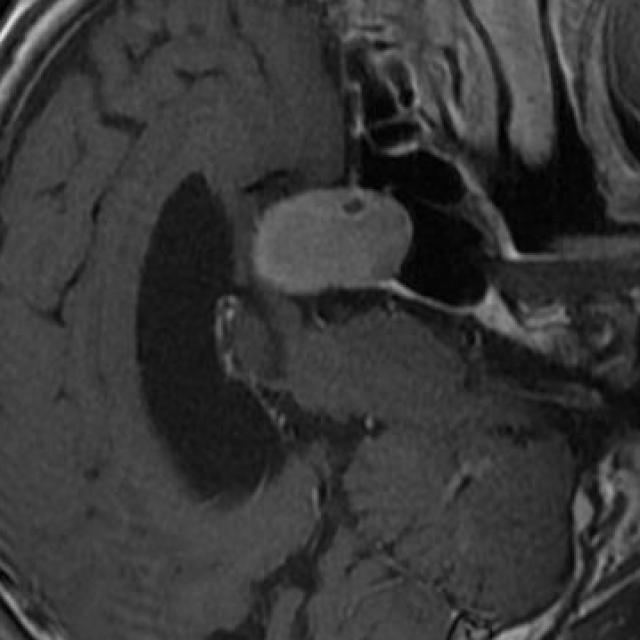pituitary: (253, 189, 414, 294)
